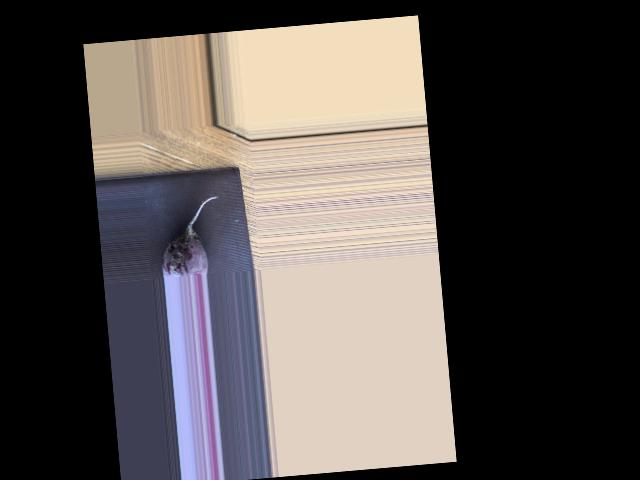beet: (156, 195, 224, 278)
